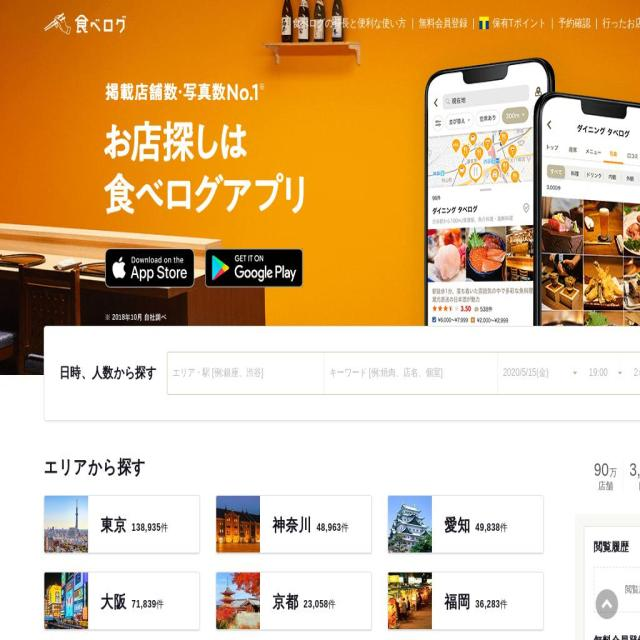button: (205, 248, 303, 288), (105, 248, 194, 288), (594, 458, 618, 495), (596, 589, 618, 619)
field: (324, 353, 498, 394), (168, 353, 324, 394), (498, 353, 584, 394), (584, 353, 628, 394), (628, 353, 640, 394)
heading: (59, 363, 167, 382), (44, 12, 126, 36), (44, 458, 146, 477), (594, 539, 640, 555), (594, 633, 640, 640)
image: (0, 0, 640, 450), (205, 248, 303, 288), (105, 248, 194, 288), (44, 572, 88, 631), (216, 572, 260, 631), (388, 572, 432, 631), (44, 496, 88, 554), (216, 496, 260, 554), (388, 496, 432, 554)
link: (292, 18, 407, 29), (418, 18, 468, 29), (602, 18, 640, 29), (558, 18, 590, 29)
text: (272, 516, 312, 534), (492, 18, 546, 29), (101, 592, 127, 611), (272, 592, 298, 611), (444, 592, 470, 611), (101, 516, 127, 534), (444, 516, 470, 534), (131, 522, 161, 533), (303, 598, 328, 610), (475, 598, 500, 610), (594, 460, 609, 480), (132, 598, 156, 610), (316, 522, 342, 533), (475, 522, 500, 533), (629, 460, 640, 480), (598, 480, 613, 492), (625, 584, 640, 594), (479, 18, 489, 29), (160, 522, 170, 533), (156, 598, 165, 610), (328, 598, 337, 610), (500, 598, 509, 610), (500, 522, 509, 533), (610, 467, 618, 478), (342, 522, 349, 533), (639, 480, 640, 492)
